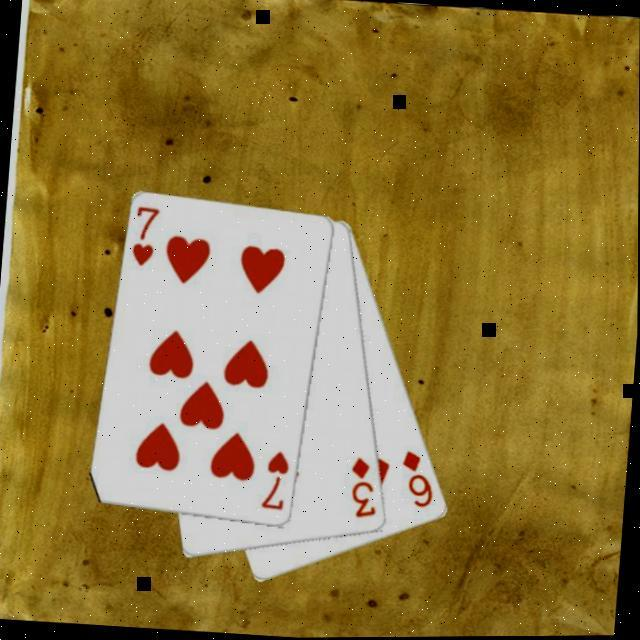3D: (346, 456, 386, 524)
6D: (398, 449, 441, 514)
7H: (260, 449, 294, 516), (130, 205, 164, 272)
